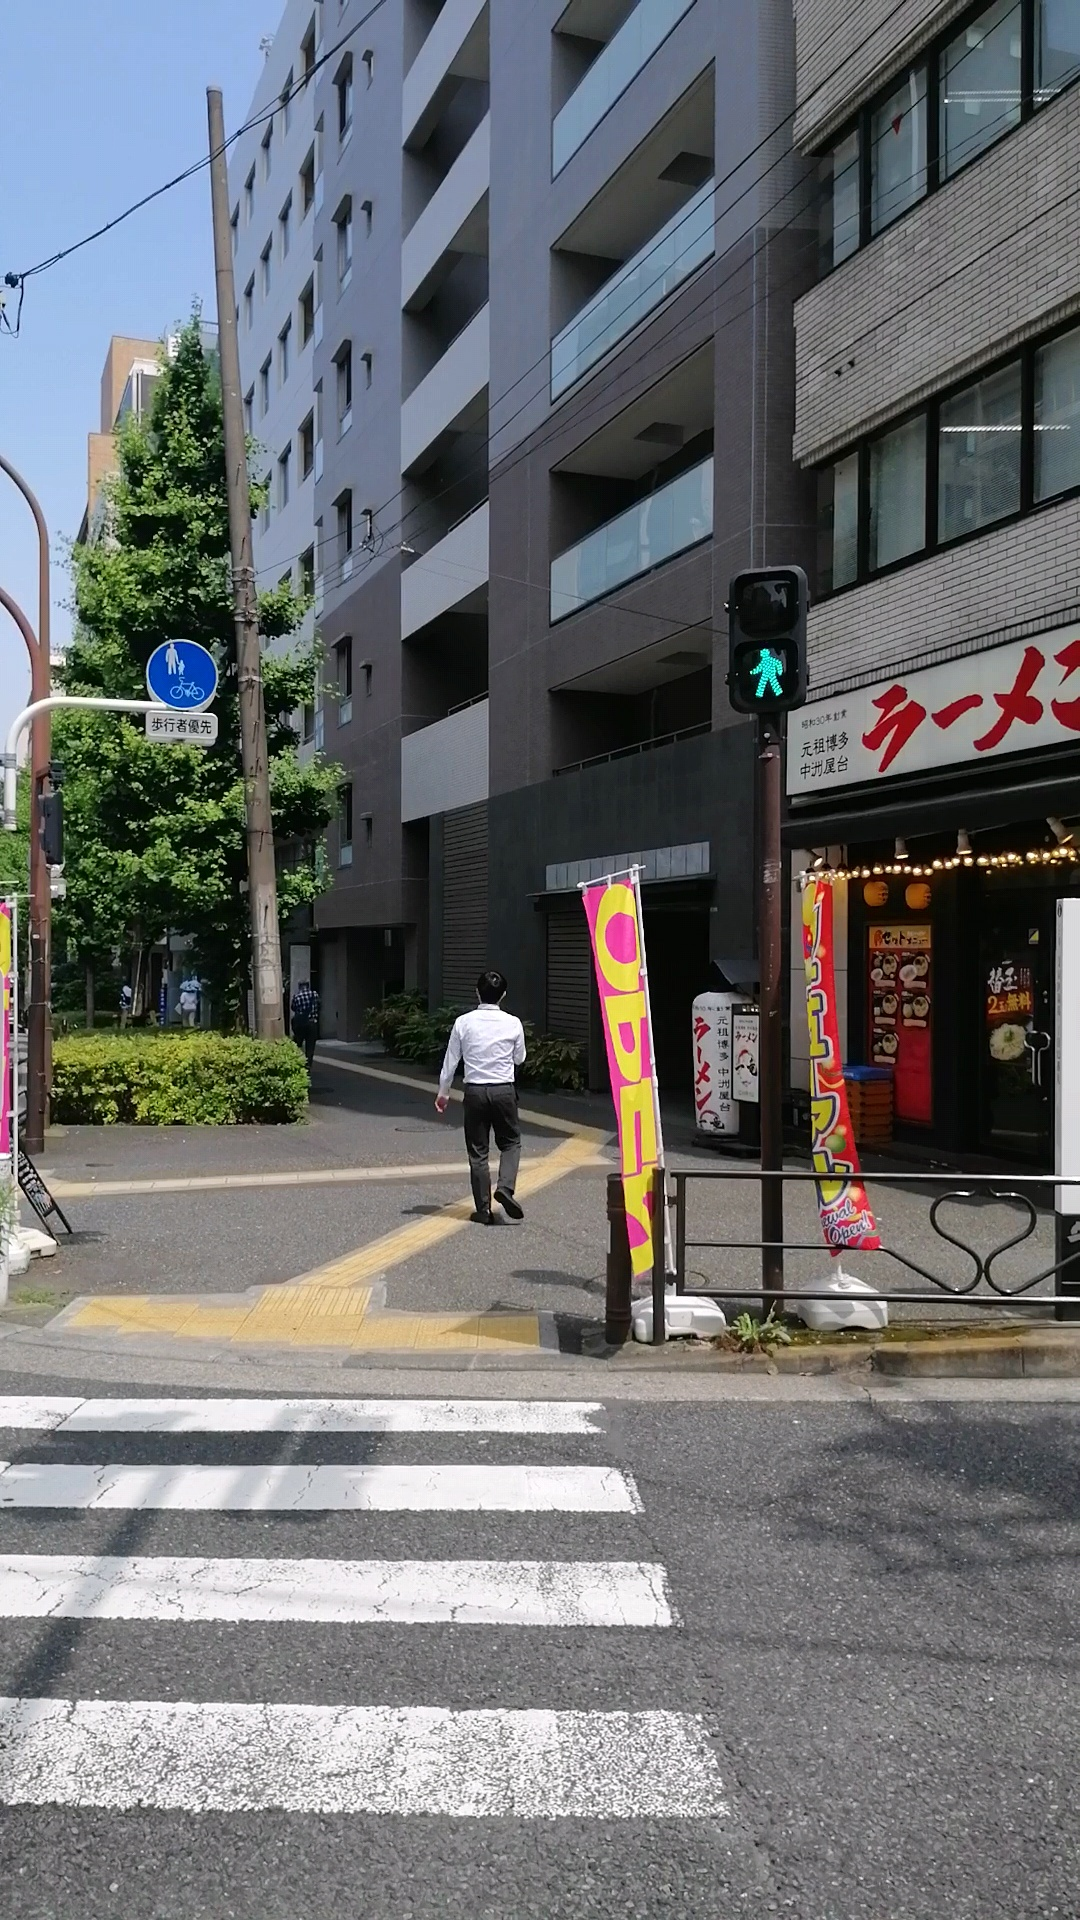green: (729, 567, 807, 711)
